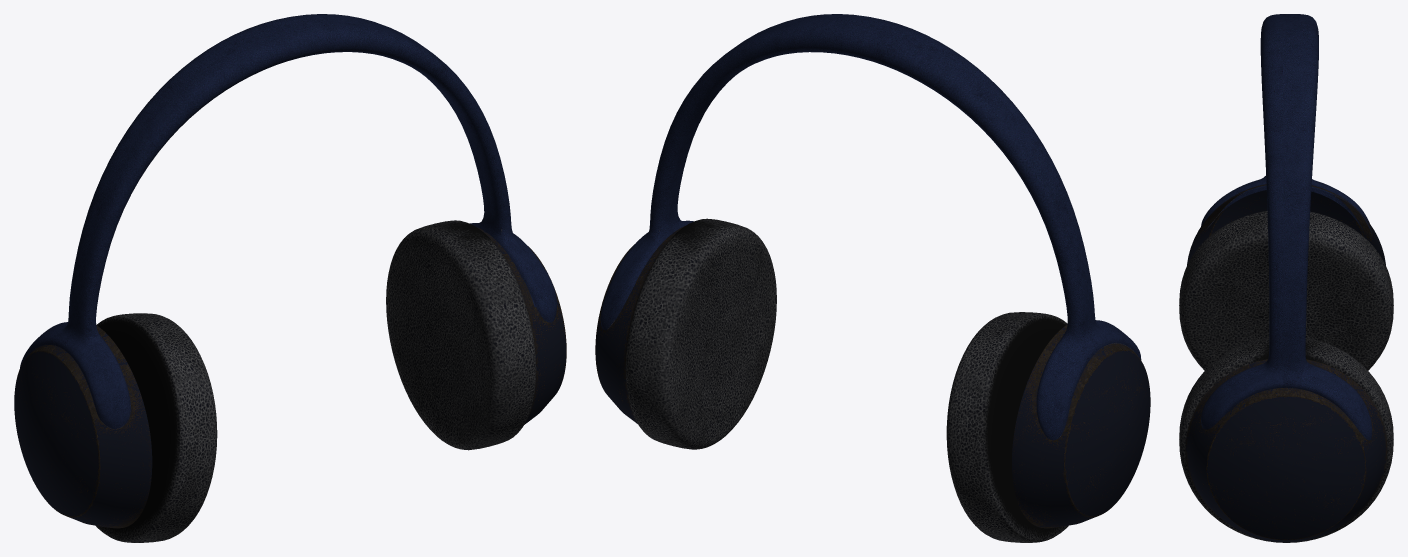
The model's file is Headphones.fbx.
The picture shows the model from 3 angles, left to right: view 1: azimuth 30°, elevation 25°; view 2: azimuth 150°, elevation 25°; view 3: azimuth 270°, elevation 25°; orthographic projection. The views are drawn at different scales.
Visible parts, largest first — view 1: Headphones; view 2: Headphones; view 3: Headphones.
Boxes of the visible parts, bbox=[...] form: Headphones: bbox=[14, 14, 566, 542]; Headphones: bbox=[595, 14, 1150, 542]; Headphones: bbox=[1179, 14, 1393, 542].
Bounding box in the file's own units: 164 × 146 × 64.99.
Materials: 3 (3 with a texture image).
